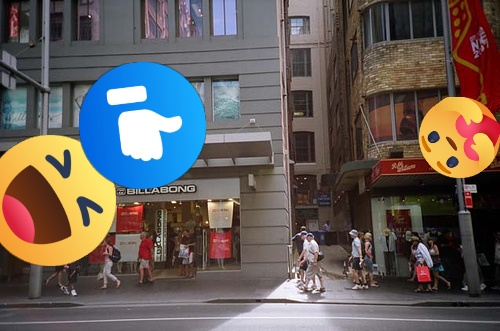care: (419, 97, 500, 178)
haha: (0, 135, 116, 266)
like: (79, 62, 206, 189)
